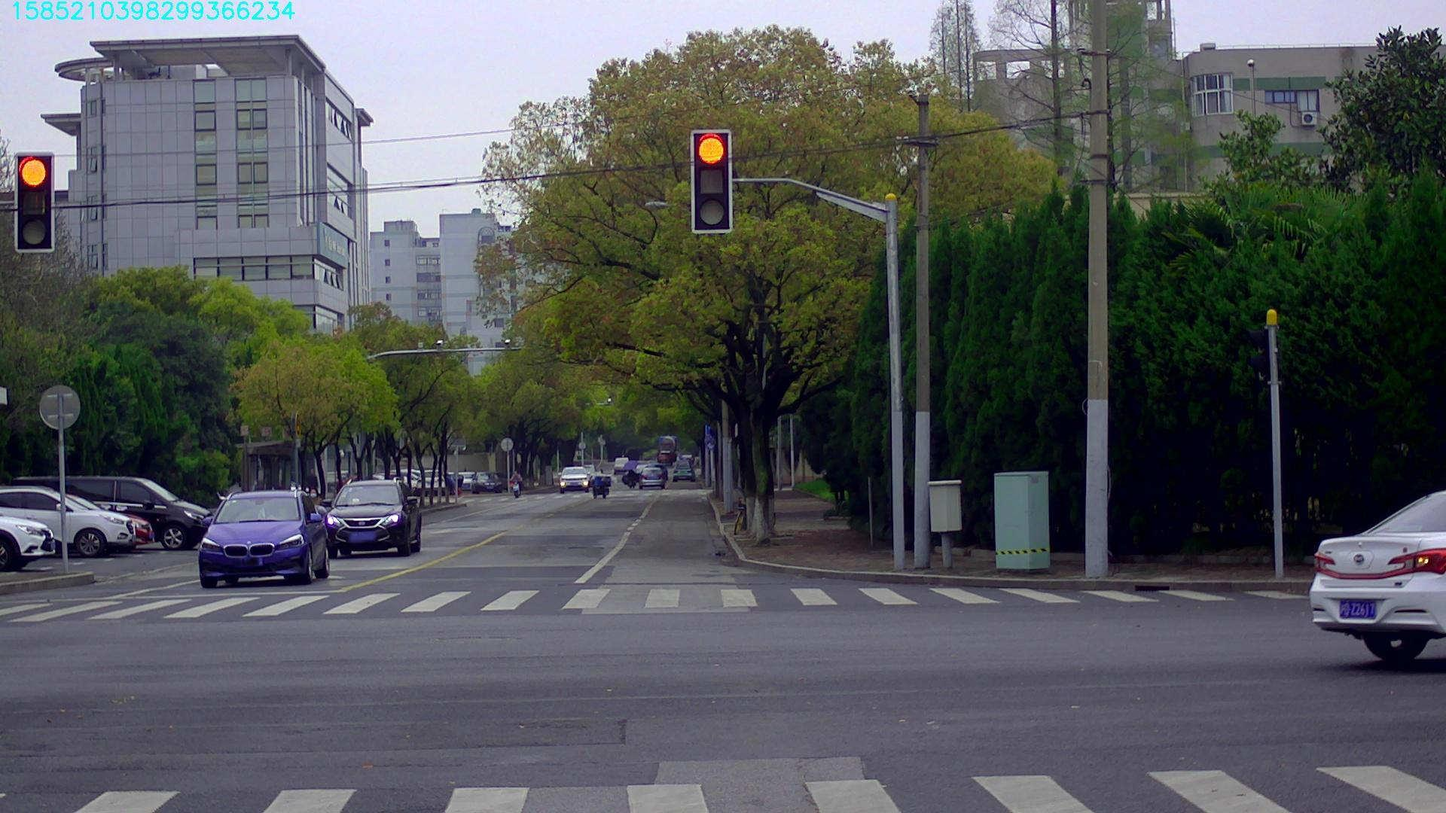red: (691, 130, 731, 232), (14, 154, 53, 251)
